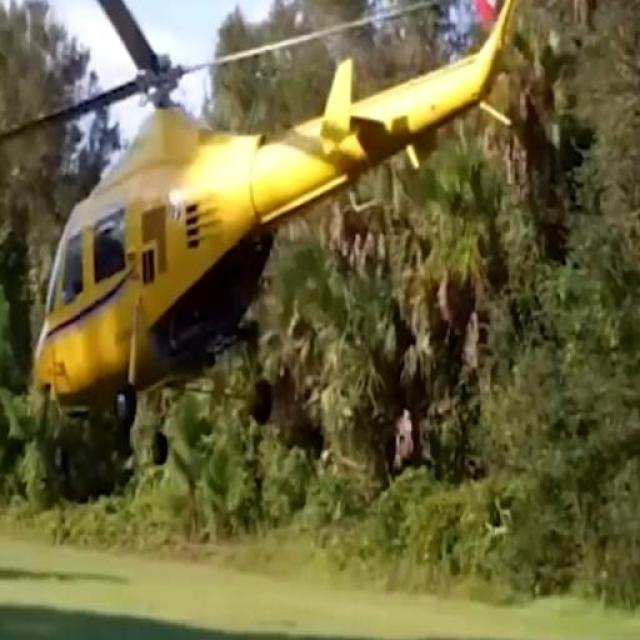drone: (22, 44, 588, 439)
